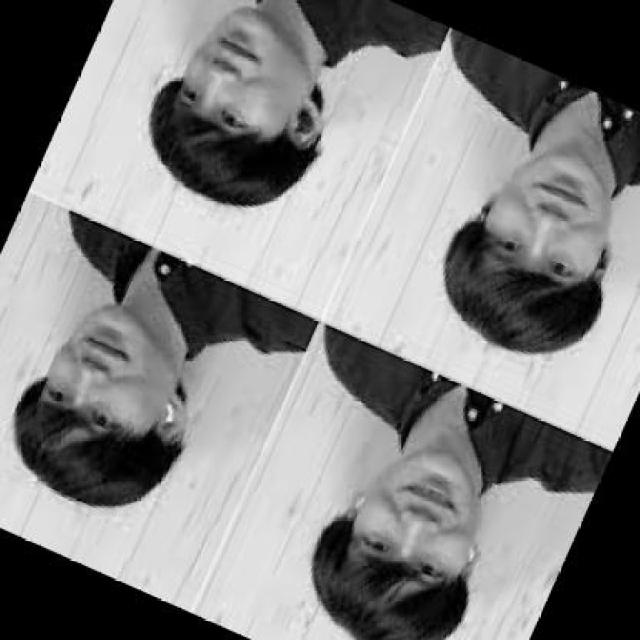earphone: (290, 94, 319, 143), (344, 478, 379, 516), (153, 393, 180, 441), (472, 193, 506, 228), (592, 237, 620, 274), (461, 535, 490, 566)
